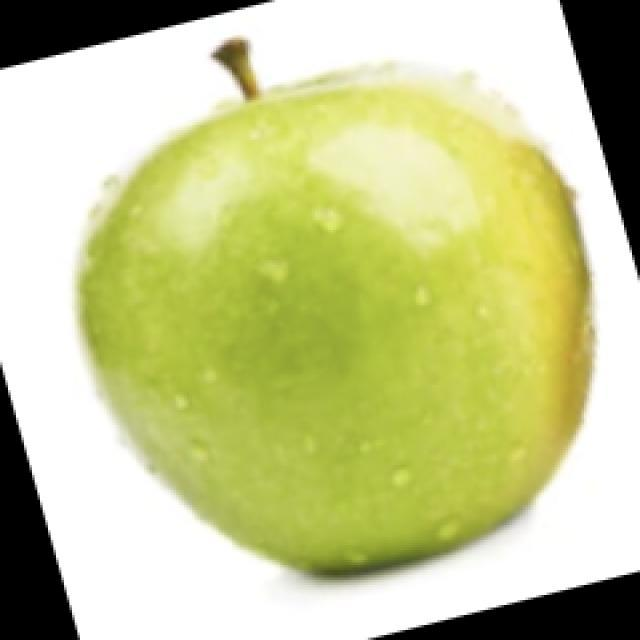Fresh Apple: (36, 68, 596, 575)
